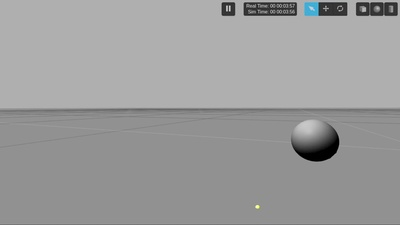mira_robot: (291, 119, 340, 161)
